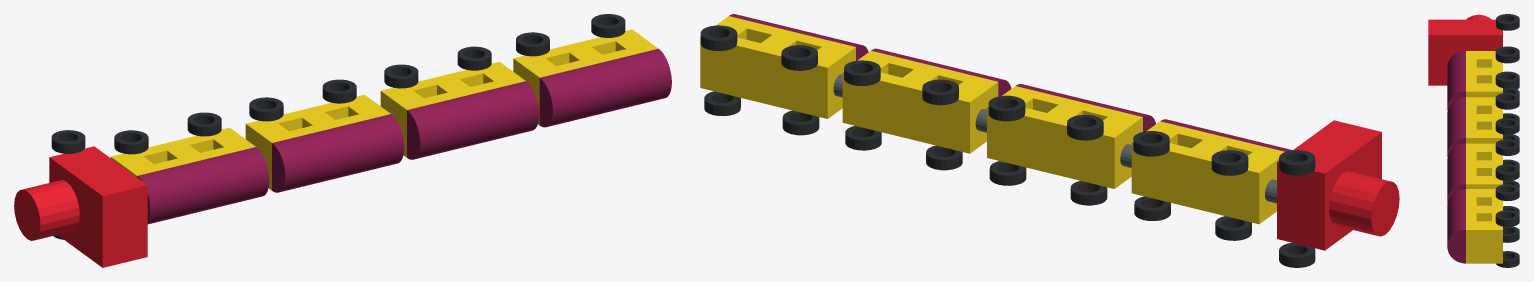
The model's file is tinker.obj.
3 renders of one model, left to right at view 1: azimuth 30°, elevation 25°; view 2: azimuth 150°, elevation 25°; view 3: azimuth 270°, elevation 25°, orthographic. The views are drawn at different scales.
Visible parts, largest first — view 1: group_0_9444435, group_0_16768282, group_0_15277357, group_0_2829873; view 2: group_0_16768282, group_0_2829873, group_0_15277357, group_0_9444435, group_0_6383466; view 3: group_0_16768282, group_0_2829873, group_0_9444435, group_0_15277357.
Boxes of the visible parts, x1,y1,x2,y2 form: group_0_9444435: [137, 49, 671, 224]; group_0_16768282: [110, 29, 658, 190]; group_0_15277357: [14, 146, 147, 267]; group_0_2829873: [51, 14, 625, 239]; group_0_16768282: [700, 16, 1284, 224]; group_0_2829873: [700, 25, 1315, 267]; group_0_15277357: [1277, 120, 1399, 250]; group_0_9444435: [729, 14, 1292, 151]; group_0_6383466: [833, 74, 1276, 203]; group_0_16768282: [1466, 51, 1502, 263]; group_0_2829873: [1495, 14, 1519, 267]; group_0_9444435: [1447, 51, 1465, 263]; group_0_15277357: [1428, 14, 1502, 85].
Size of the model in its own units: 272 by 40 by 49.31.
